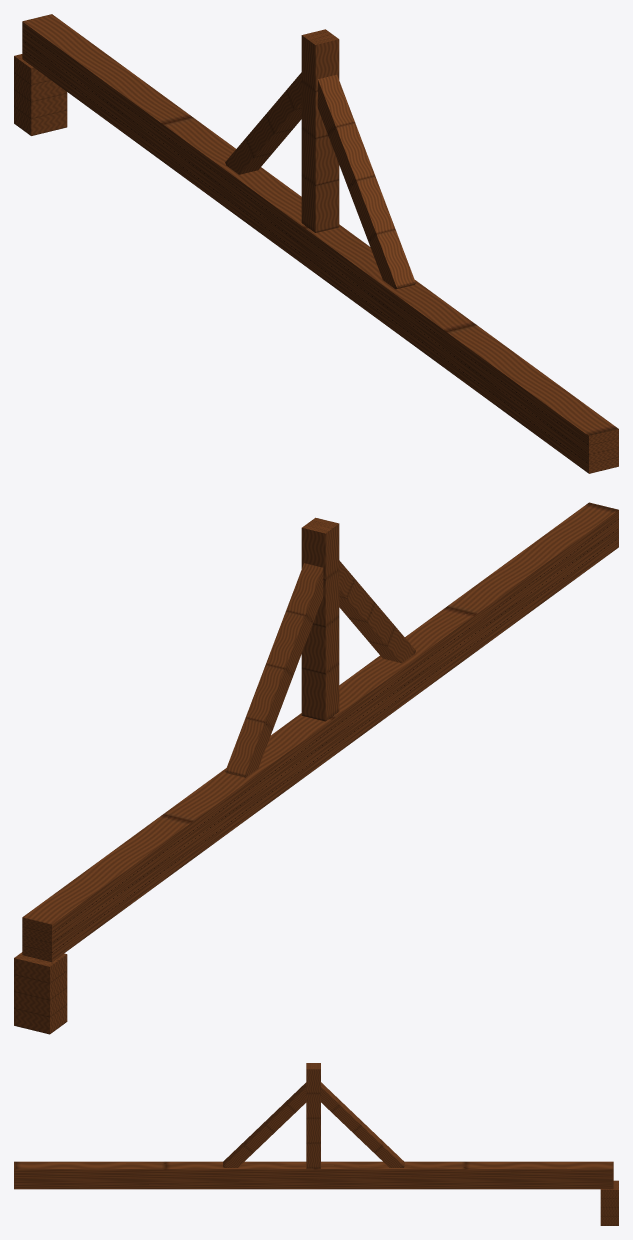
The model's file is legendary-warriors-kit-gallery-rafter-8496e1e7__39229.glb.
The picture shows the model from 3 angles, top to bottom: view 1: azimuth 30°, elevation 25°; view 2: azimuth 150°, elevation 25°; view 3: azimuth 270°, elevation 25°; orthographic projection. The views are drawn at different scales.
Visible parts, largest first — view 1: gallery-rafter; view 2: gallery-rafter; view 3: gallery-rafter.
Boxes of the visible parts, x1,y1,x2,y2 form: gallery-rafter: [14, 14, 618, 473]; gallery-rafter: [14, 502, 618, 1034]; gallery-rafter: [14, 1063, 618, 1225].
Size of the model in its own units: 0.3 by 2.34 by 8.28.
1 material, 1 textured.
